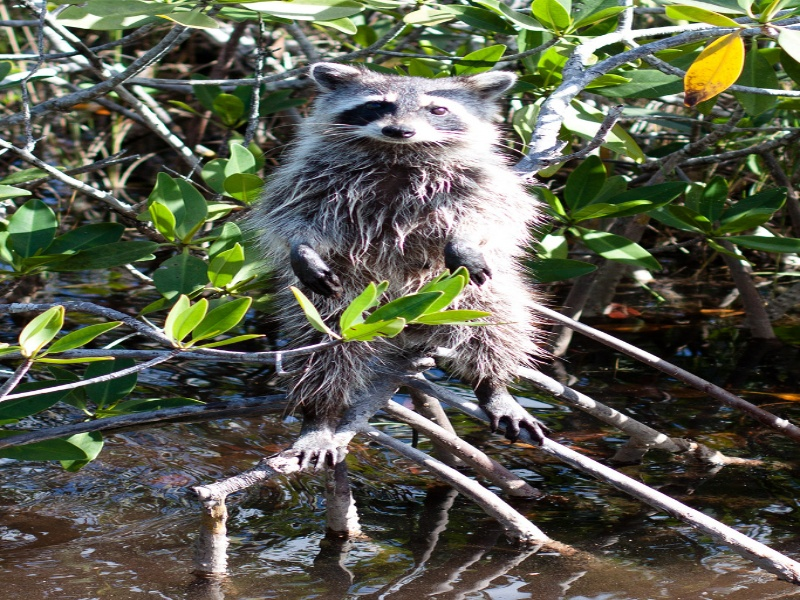raccoon: (252, 56, 560, 459)
